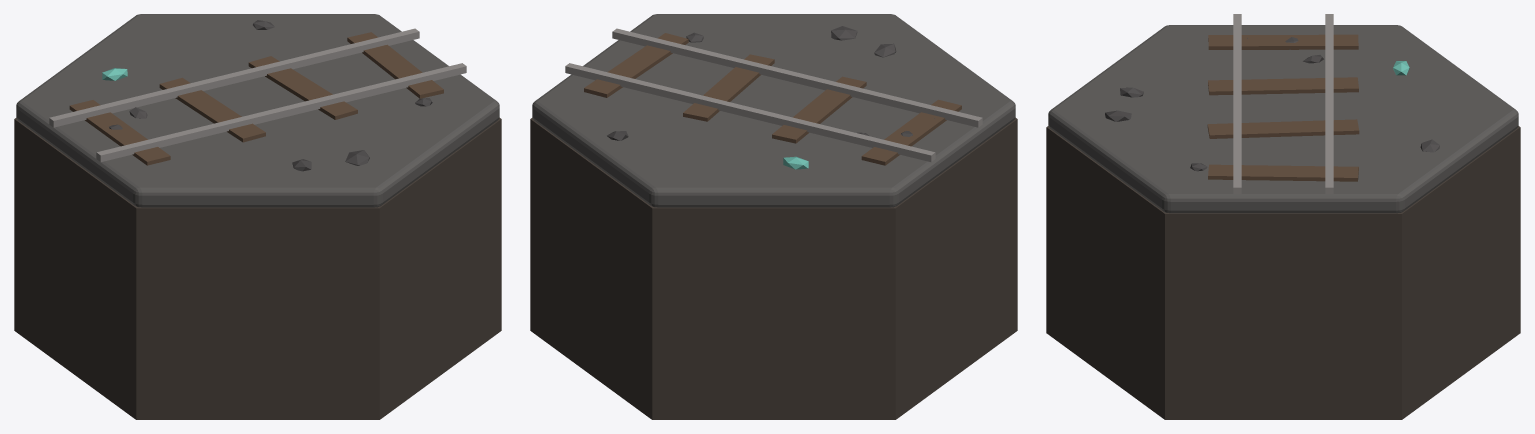
File: hex_mine_rail.glb
3 views of the same model, side by side, from view 1: azimuth 30°, elevation 25°; view 2: azimuth 150°, elevation 25°; view 3: azimuth 270°, elevation 25° (orthographic). The views are drawn at different scales.
Visible parts, largest first — view 1: hex_mine_rail; view 2: hex_mine_rail; view 3: hex_mine_rail.
Boxes of the visible parts, box(x1,y1,x2,y2) form: hex_mine_rail: box(14, 14, 501, 419); hex_mine_rail: box(530, 14, 1017, 419); hex_mine_rail: box(1046, 14, 1520, 419).
Size of the model in its own units: 1.7 by 1.06 by 1.96.
